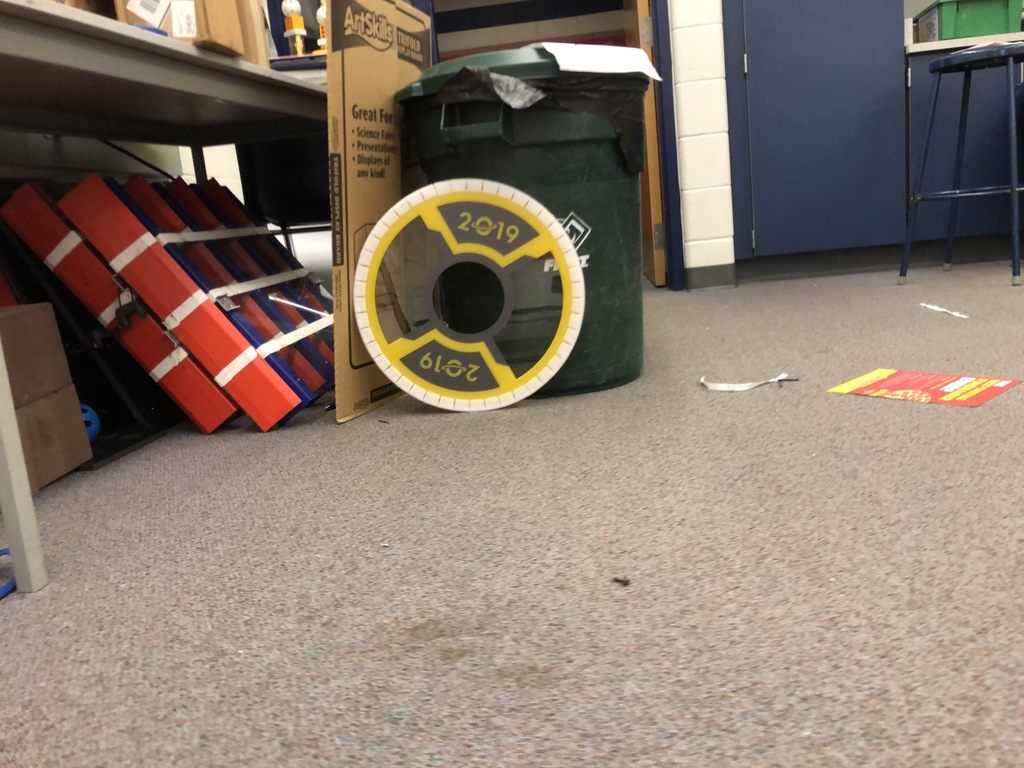hatch_panel: (342, 148, 593, 434)
